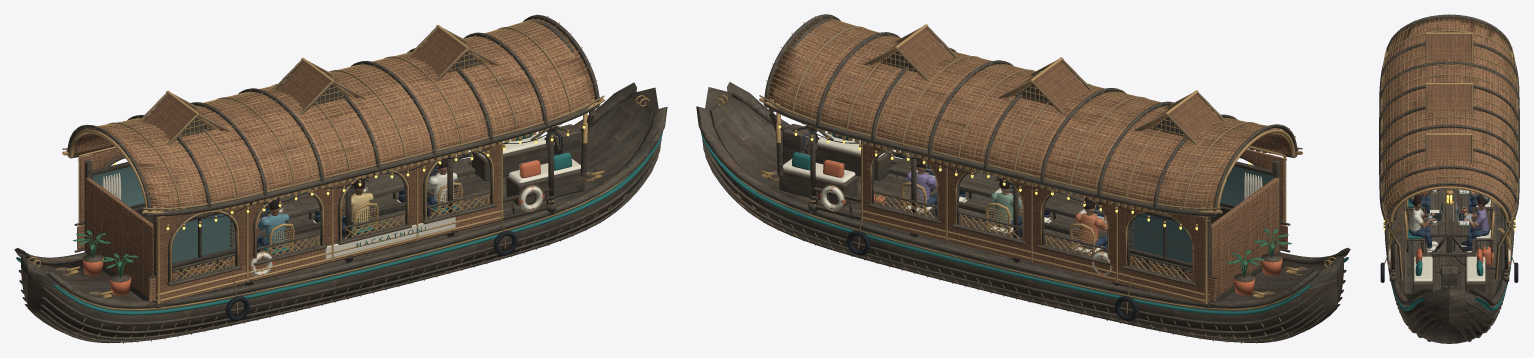
File: houseboat-light.glb
3 renders of one model, left to right at view 1: azimuth 30°, elevation 25°; view 2: azimuth 150°, elevation 25°; view 3: azimuth 270°, elevation 25°, orthographic. The views are drawn at different scales.
Visible parts, largest first — view 1: Canopy / 06 / handwoven palm mat, Canopy / 07 / honey cane, Boat / 04 / resin-darkened timber, Boat / 01 / oiled jackwood grain, Canopy / 02 / dark carved teak, Boat / 02 / dark carved teak, Canopy / 08 / coir rope, Boat / 06 / handwoven palm mat, Canopy / 01 / oiled jackwood grain, Boat / 05 / weathered lagoon enamel, Boat / 10 / unbleached cotton, Boat / 19 / smoky glass (+10 smaller); view 2: Canopy / 06 / handwoven palm mat, Canopy / 07 / honey cane, Boat / 04 / resin-darkened timber, Boat / 01 / oiled jackwood grain, Canopy / 02 / dark carved teak, Boat / 02 / dark carved teak, Boat / 06 / handwoven palm mat, Canopy / 08 / coir rope, Canopy / 01 / oiled jackwood grain, Boat / 05 / weathered lagoon enamel, Boat / 19 / smoky glass, Boat / 10 / unbleached cotton (+10 smaller); view 3: Canopy / 06 / handwoven palm mat, Boat / 01 / oiled jackwood grain, Canopy / 07 / honey cane, Canopy / 02 / dark carved teak, Canopy / 08 / coir rope, Boat / 04 / resin-darkened timber, Boat / 02 / dark carved teak, Boat / 10 / unbleached cotton, Canopy / 01 / oiled jackwood grain, Boat / Indigo denim, Boat / 05 / weathered lagoon enamel, Boat / 12 / charcoal rubber (+11 smaller).
Boxes of the visible parts, x1,y1,x2,y2 form: Canopy / 06 / handwoven palm mat: [73, 19, 595, 303]; Canopy / 07 / honey cane: [62, 19, 604, 303]; Boat / 04 / resin-darkened timber: [21, 87, 658, 340]; Boat / 01 / oiled jackwood grain: [14, 82, 667, 314]; Canopy / 02 / dark carved teak: [67, 15, 600, 285]; Boat / 02 / dark carved teak: [18, 139, 661, 342]; Canopy / 08 / coir rope: [62, 14, 604, 300]; Boat / 06 / handwoven palm mat: [77, 178, 235, 302]; Canopy / 01 / oiled jackwood grain: [167, 20, 594, 286]; Boat / 05 / weathered lagoon enamel: [16, 132, 662, 315]; Boat / 10 / unbleached cotton: [102, 133, 580, 276]; Boat / 19 / smoky glass: [92, 166, 235, 263]; Canopy / 06 / handwoven palm mat: [768, 19, 1291, 304]; Canopy / 07 / honey cane: [759, 18, 1302, 303]; Boat / 04 / resin-darkened timber: [705, 87, 1343, 340]; Boat / 01 / oiled jackwood grain: [696, 82, 1350, 314]; Canopy / 02 / dark carved teak: [763, 14, 1297, 285]; Boat / 02 / dark carved teak: [702, 140, 1346, 342]; Boat / 06 / handwoven palm mat: [1129, 177, 1287, 302]; Canopy / 08 / coir rope: [759, 16, 1302, 300]; Canopy / 01 / oiled jackwood grain: [769, 20, 1196, 286]; Boat / 05 / weathered lagoon enamel: [700, 131, 1348, 315]; Boat / 19 / smoky glass: [1129, 166, 1272, 262]; Boat / 10 / unbleached cotton: [783, 132, 1262, 275]; Canopy / 06 / handwoven palm mat: [1382, 18, 1516, 248]; Boat / 01 / oiled jackwood grain: [1384, 188, 1514, 323]; Canopy / 07 / honey cane: [1382, 18, 1517, 279]; Canopy / 02 / dark carved teak: [1379, 14, 1519, 281]; Canopy / 08 / coir rope: [1381, 14, 1518, 274]; Boat / 04 / resin-darkened timber: [1397, 202, 1497, 343]; Boat / 02 / dark carved teak: [1393, 191, 1506, 341]; Boat / 10 / unbleached cotton: [1388, 189, 1510, 281]; Canopy / 01 / oiled jackwood grain: [1387, 202, 1511, 283]; Boat / Indigo denim: [1409, 195, 1489, 248]; Boat / 05 / weathered lagoon enamel: [1386, 191, 1512, 310]; Boat / 12 / charcoal rubber: [1380, 190, 1518, 282].
Bounding box in the file's own units: 16.45 × 5.46 × 4.17.
35 materials, 5 textured.
